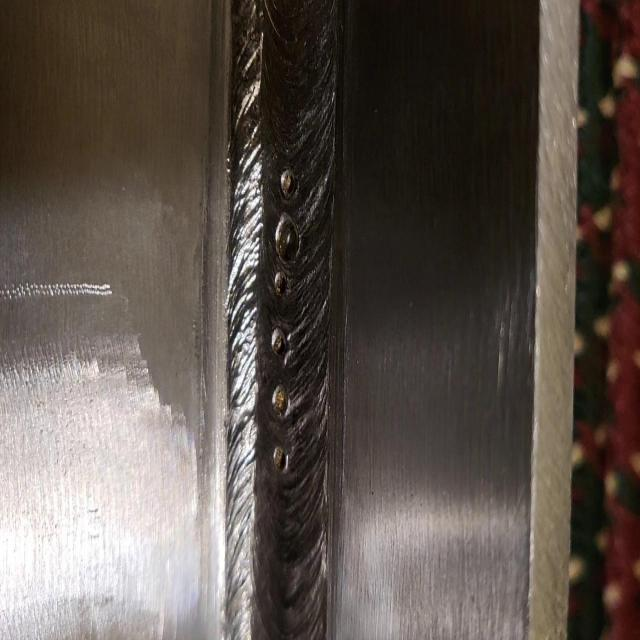Welding Line: (232, 2, 328, 640)
Workpiece: (2, 3, 571, 640)
porosity: (272, 167, 300, 477)
